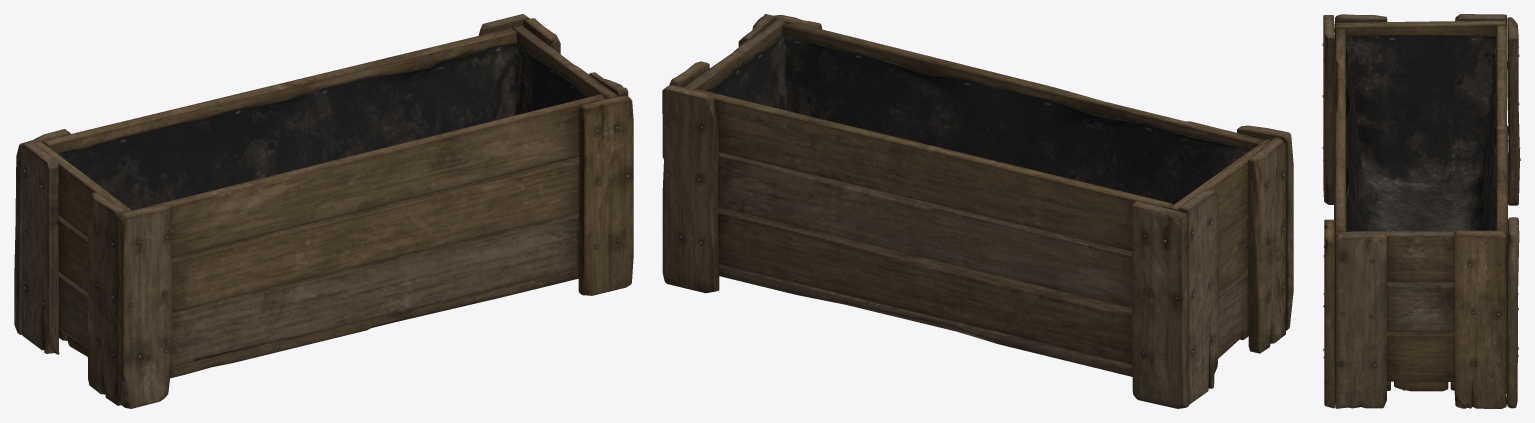
File: planter_box_02_1k.gltf
3 views of the same model, side by side, from view 1: azimuth 30°, elevation 25°; view 2: azimuth 150°, elevation 25°; view 3: azimuth 270°, elevation 25° (orthographic). The views are drawn at different scales.
Visible parts, largest first — view 1: planter_box_02; view 2: planter_box_02; view 3: planter_box_02.
Boxes of the visible parts, box(x1,y1,x2,y2) form: planter_box_02: box(14, 14, 633, 408); planter_box_02: box(662, 14, 1293, 408); planter_box_02: box(1322, 14, 1520, 408).
Bounding box in the file's own units: 1.25 × 0.4534 × 0.4672.
Materials: 1 (1 with a texture image).
